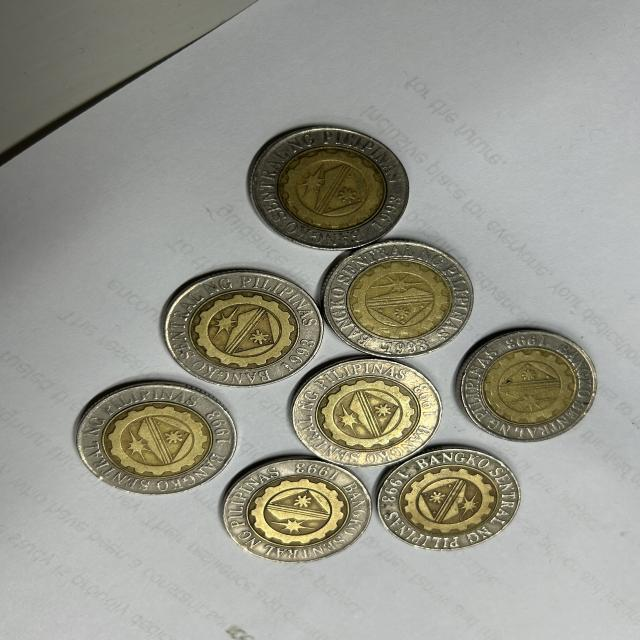10_Old_Back: (254, 128, 405, 237), (164, 272, 320, 369), (339, 245, 475, 352), (82, 389, 221, 491), (297, 367, 443, 459), (381, 449, 516, 548), (233, 463, 361, 564), (483, 330, 592, 437), (470, 381, 481, 382)
